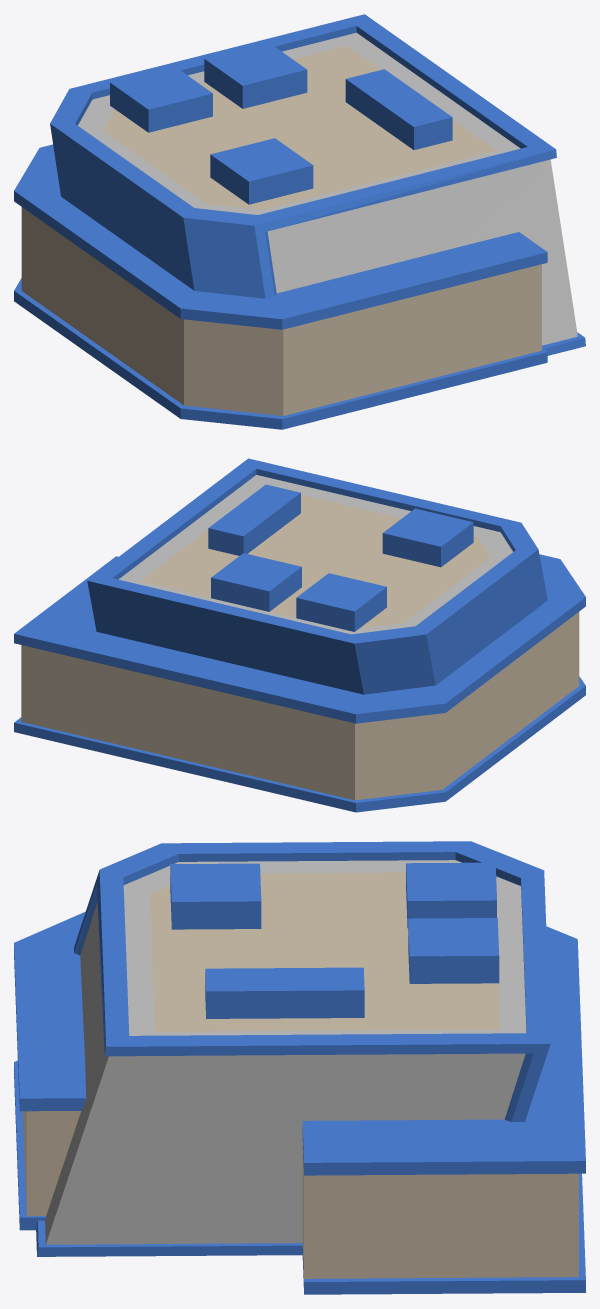
File: bulding2.fbx
3 renders of one model, top to bottom at view 1: azimuth 30°, elevation 25°; view 2: azimuth 150°, elevation 25°; view 3: azimuth 270°, elevation 25°, orthographic. The views are drawn at different scales.
Parts seen in each view (by area): view 1: appliances_store; view 2: appliances_store; view 3: appliances_store.
Boxes of the visible parts, x1,y1,x2,y2 form: appliances_store: (14, 14, 585, 429); appliances_store: (14, 458, 585, 812); appliances_store: (14, 841, 585, 1294).
Bounding box in the file's own units: 174 × 71.44 × 162.
